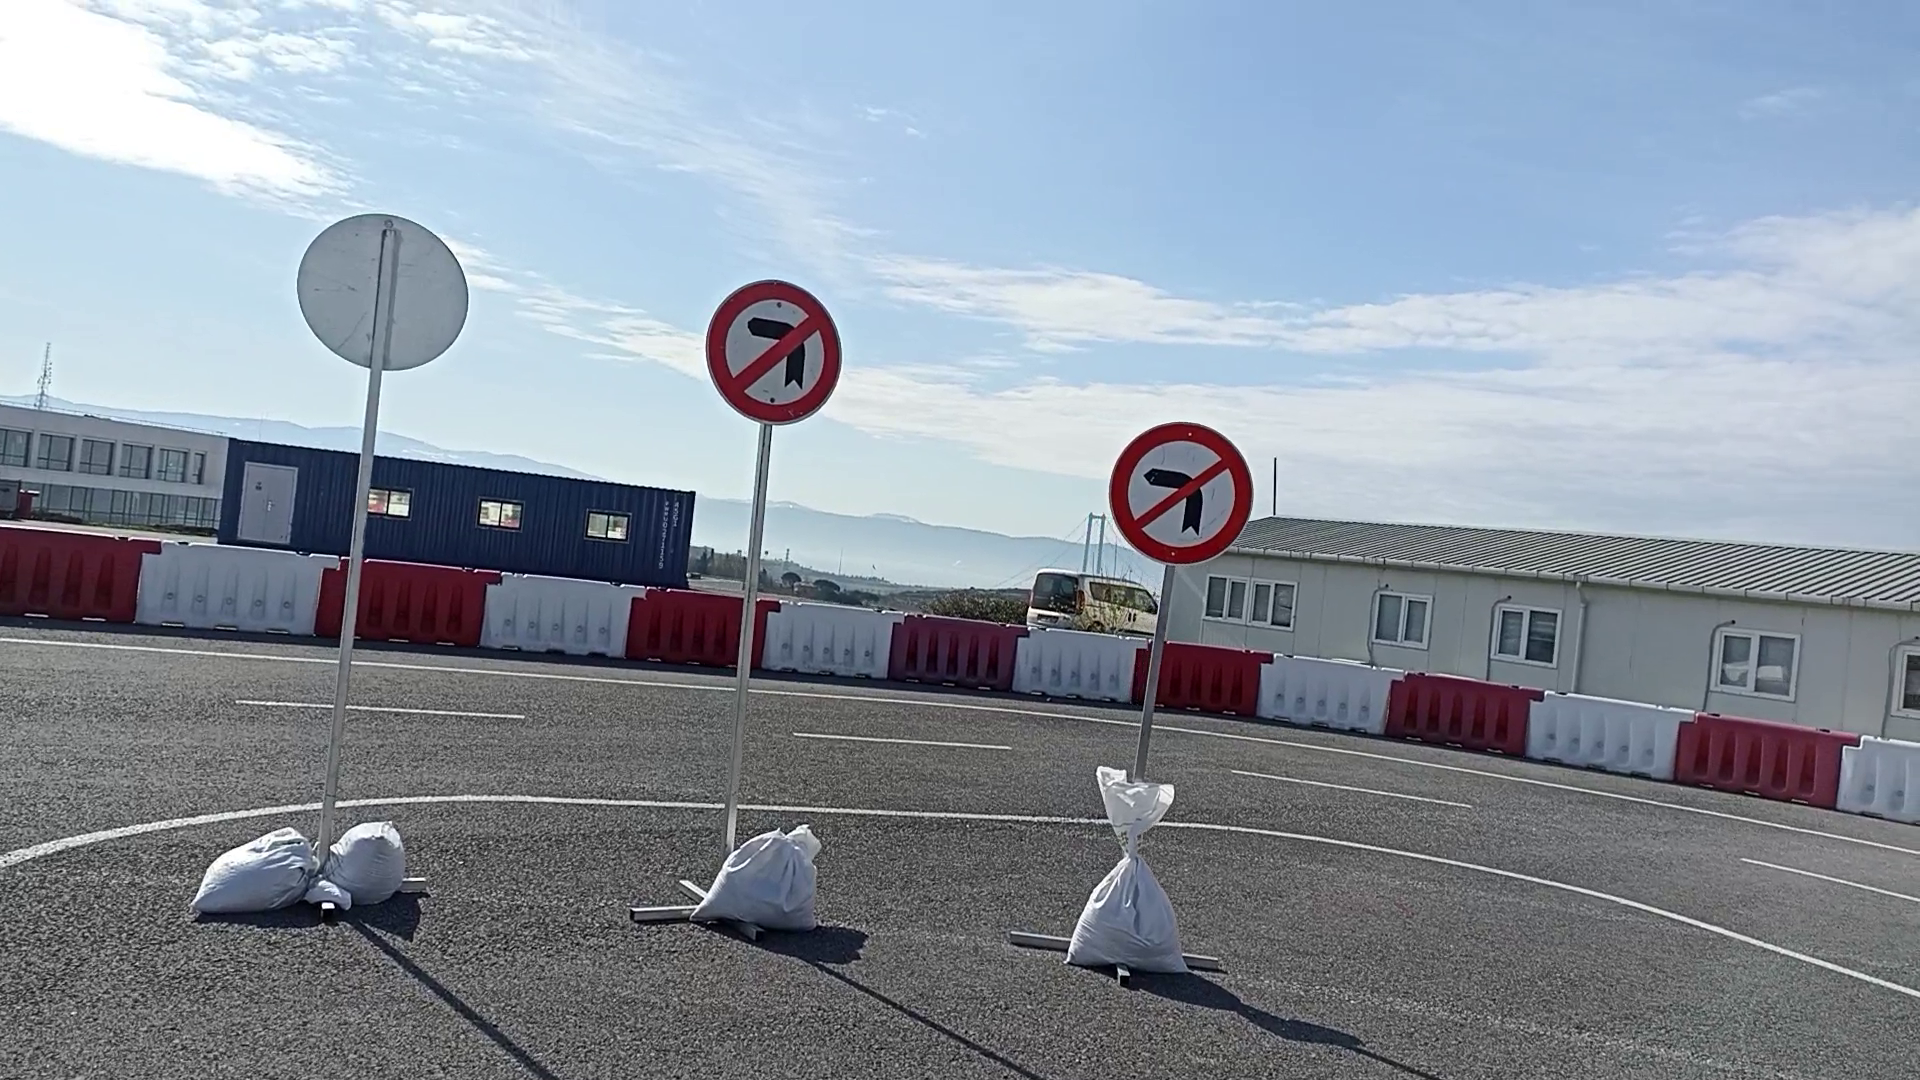noleft: (1105, 415, 1258, 570), (700, 273, 847, 426)
